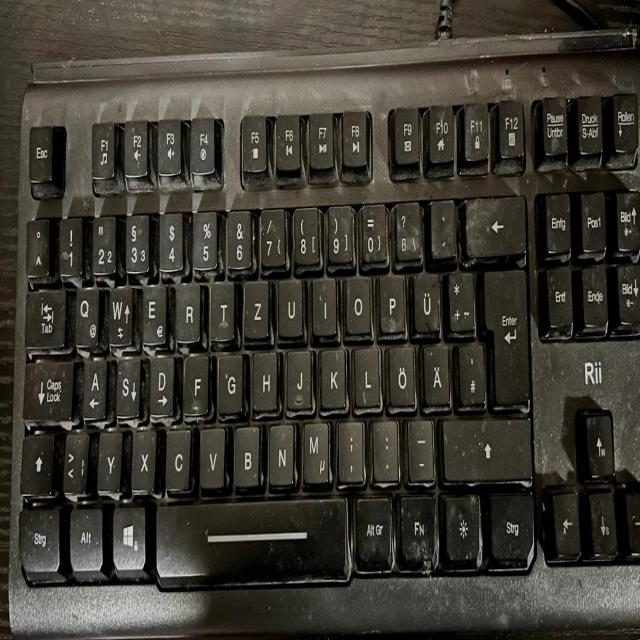0: (357, 197, 387, 263)
1: (57, 211, 82, 275)
2: (89, 210, 116, 273)
3: (122, 208, 149, 271)
4: (158, 206, 183, 270)
5: (191, 205, 218, 269)
6: (225, 204, 252, 269)
7: (258, 201, 285, 267)
8: (291, 200, 319, 267)
9: (325, 199, 353, 263)
a: (81, 349, 106, 417)
accent: (427, 191, 455, 256)
ae: (421, 337, 449, 404)
alt-left: (69, 501, 106, 575)
altgr-right: (352, 488, 391, 567)
b: (232, 418, 260, 486)
c: (164, 421, 191, 489)
caret: (24, 213, 49, 275)
comma: (335, 412, 363, 480)
d: (147, 347, 173, 414)
del: (461, 189, 526, 255)
e: (140, 277, 166, 343)
enter: (481, 260, 529, 406)
f: (181, 347, 208, 413)
g: (215, 347, 242, 412)
h: (251, 344, 277, 410)
hash: (456, 335, 484, 403)
i: (310, 270, 336, 332)
j: (284, 343, 311, 408)
k: (317, 340, 346, 408)
keyboard: (7, 38, 640, 640)
l: (352, 338, 380, 406)
less: (61, 424, 88, 492)
m: (300, 414, 328, 483)
minus: (405, 411, 433, 479)
n: (266, 416, 294, 484)
o: (342, 270, 371, 332)
oe: (386, 338, 414, 405)
p: (377, 268, 404, 331)
plus: (445, 264, 473, 330)
point: (370, 412, 398, 478)
q: (72, 282, 99, 346)
r: (173, 275, 200, 340)
s: (113, 348, 139, 416)
shift-left: (18, 427, 54, 493)
shift-lock: (21, 353, 73, 421)
shift-right: (437, 409, 531, 479)
space: (152, 489, 350, 584)
ss: (391, 194, 421, 260)
strg-left: (17, 501, 59, 575)
strg-right: (487, 484, 535, 563)
t: (208, 274, 234, 338)
tab: (23, 284, 65, 348)
u: (276, 272, 303, 336)
ue: (411, 266, 439, 331)
v: (197, 419, 225, 487)
w: (106, 278, 132, 344)
x: (129, 420, 156, 489)
y: (95, 422, 122, 491)
z: (242, 273, 269, 338)
